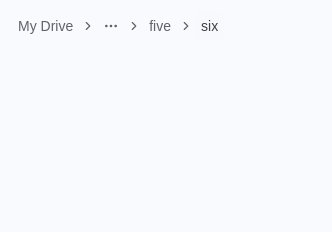
it: deep trails › navigates to a hidden folder and closes the menu
Click the button named "Show 4 hidden folders" at x=111, y=26, box x1=97 y1=14 x2=125 y2=38
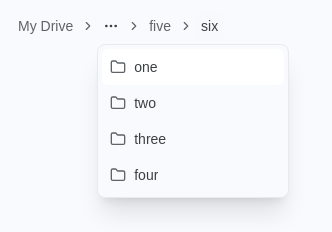
Click the menu item "two" at x=193, y=103, box x1=102 y1=85 x2=284 y2=121
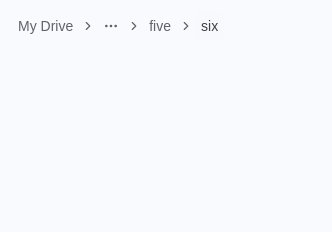
Expected: the menu is gone
